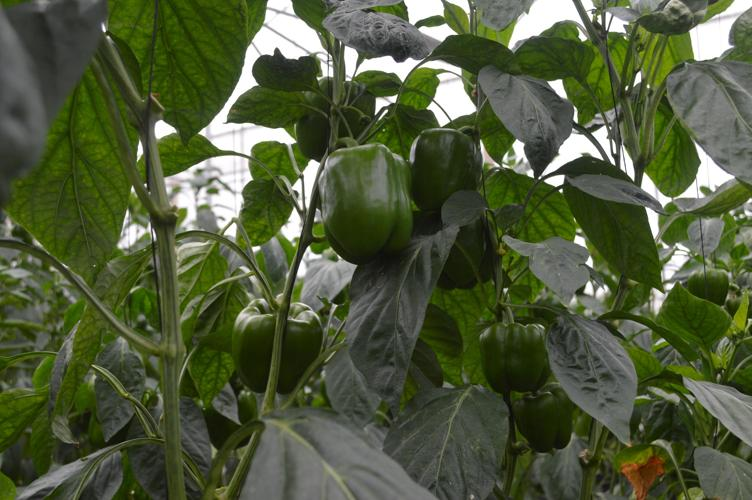BellPepper: (305, 144, 417, 267), (224, 293, 328, 398), (400, 122, 490, 209), (473, 317, 560, 393), (506, 389, 587, 460), (432, 217, 495, 303)
